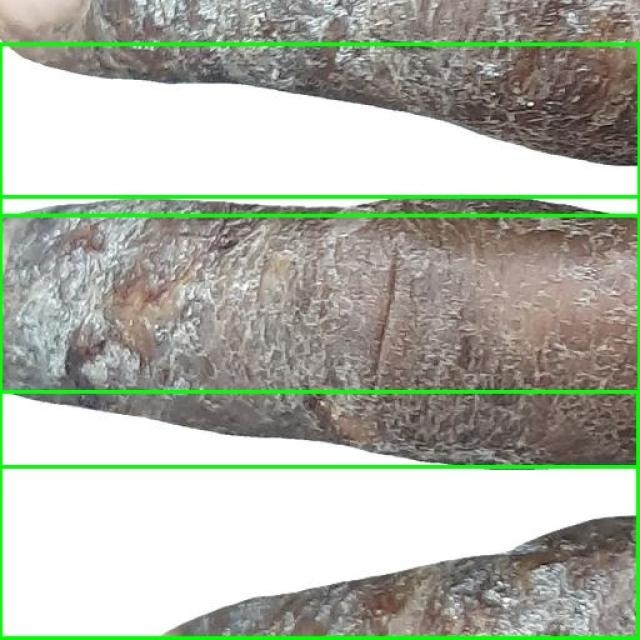Eczema: (0, 196, 639, 466), (0, 392, 639, 639), (0, 44, 639, 215)
